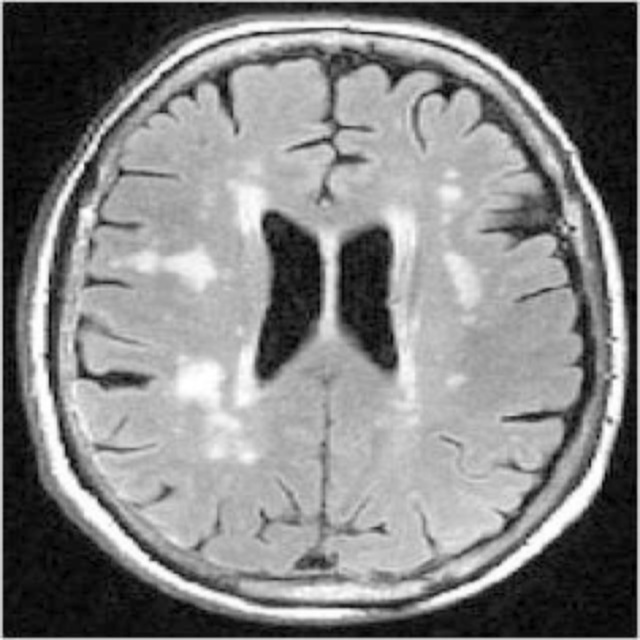glioma tumor: (138, 68, 521, 557)
